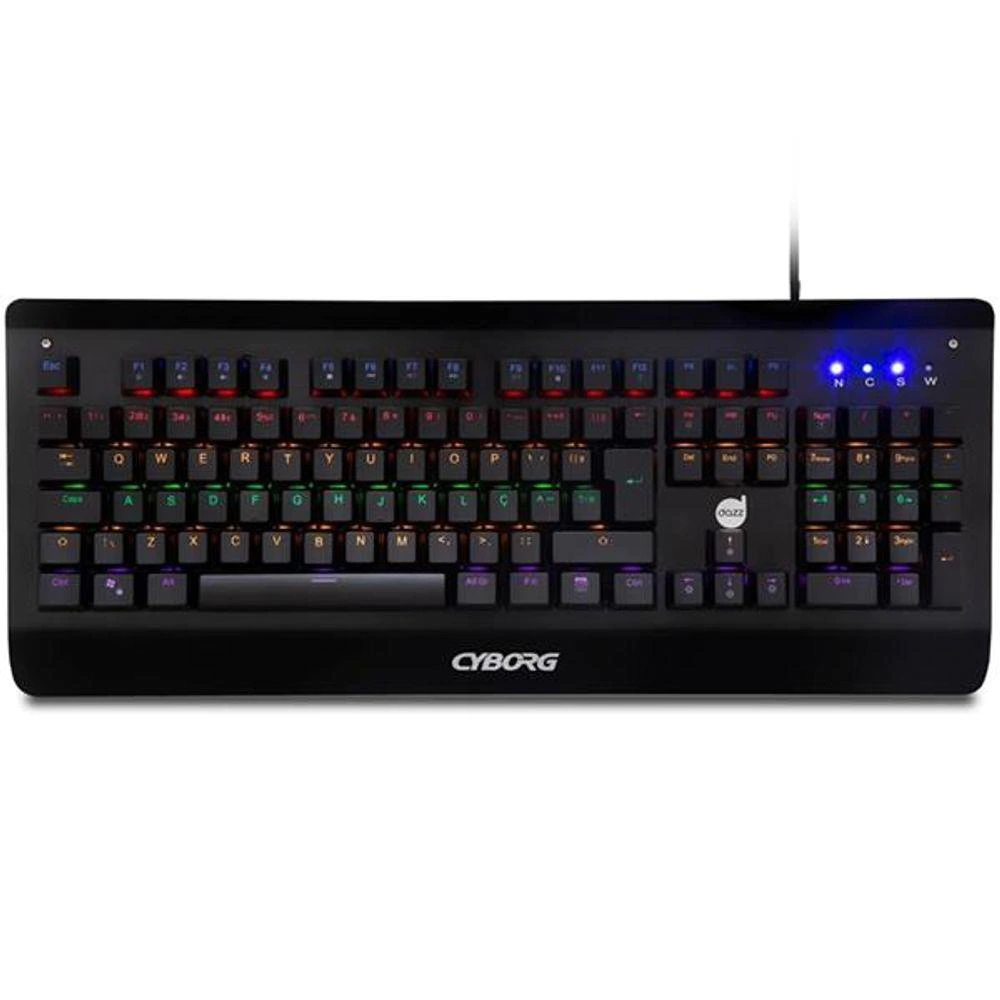keyboard: (1, 288, 1000, 705)
